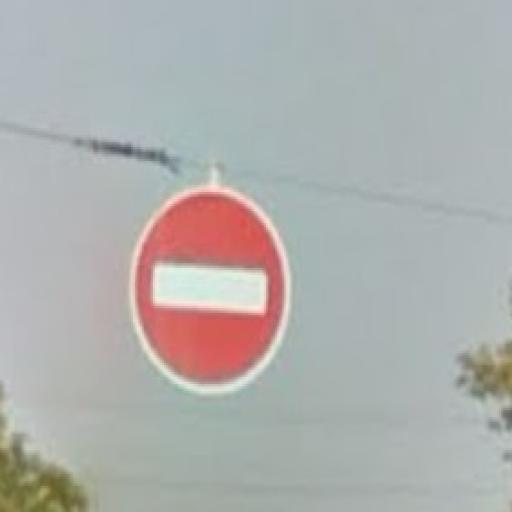traffic_sign: (133, 186, 295, 394)
